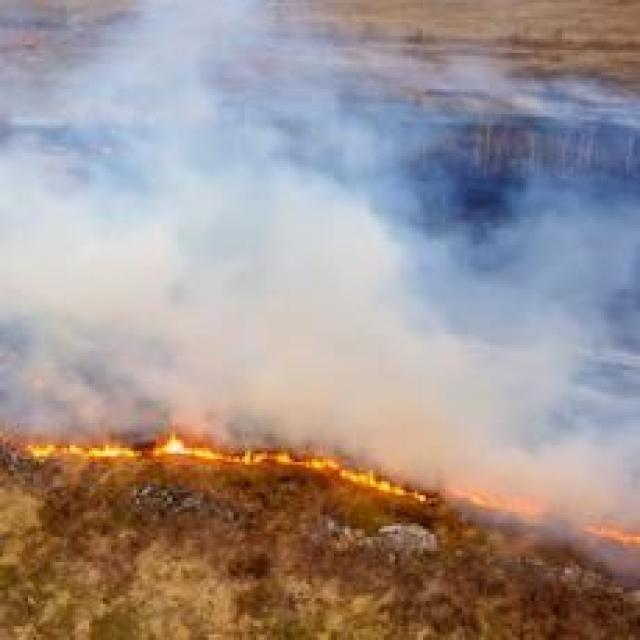Fire: (13, 439, 640, 563)
Smoke: (16, 0, 640, 445)
